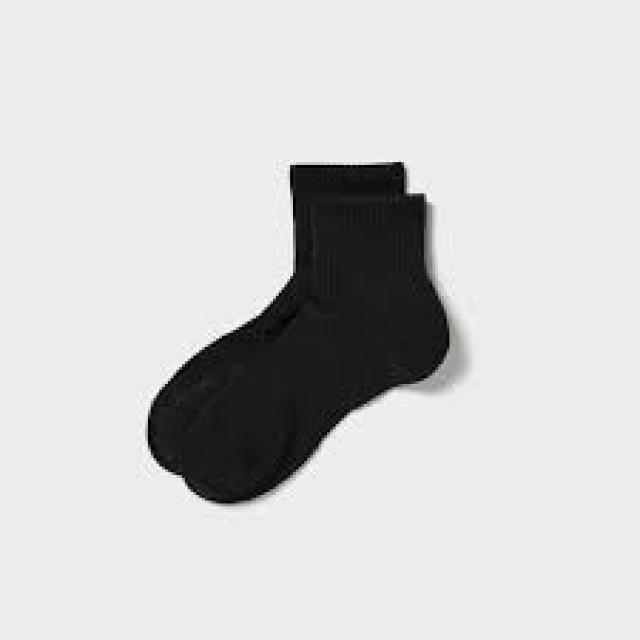sock: (145, 160, 449, 503)
